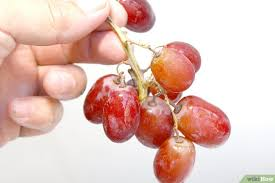Red Grapes: (84, 35, 229, 183)
